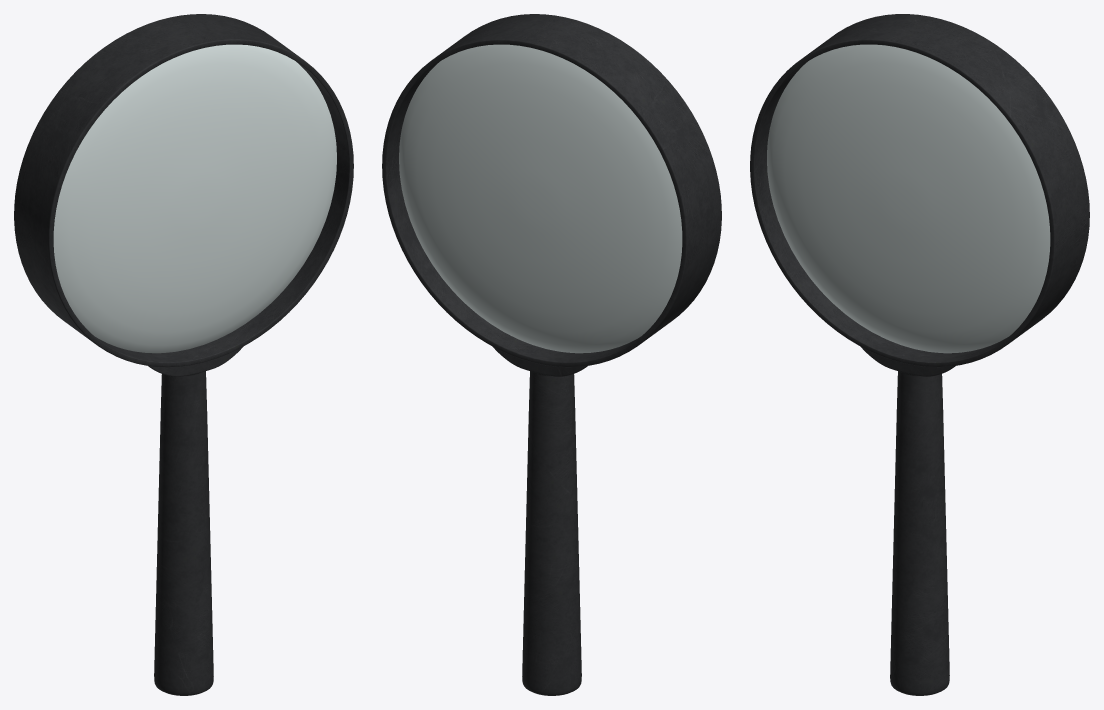
The model's file is magnifying_glass_01_4k.fbx.
The picture shows the model from 3 angles, left to right: view 1: azimuth 30°, elevation 25°; view 2: azimuth 150°, elevation 25°; view 3: azimuth 330°, elevation 25°; orthographic projection.
Visible parts, largest first — view 1: magnifying_glass_01; view 2: magnifying_glass_01; view 3: magnifying_glass_01.
Boxes of the visible parts, x1,y1,x2,y2 form: magnifying_glass_01: (14,14,353,695); magnifying_glass_01: (382,14,721,695); magnifying_glass_01: (750,14,1089,695).
Bounding box in the file's own units: 13.21 × 27.16 × 2.67.
Materials: 2 (1 with a texture image).
